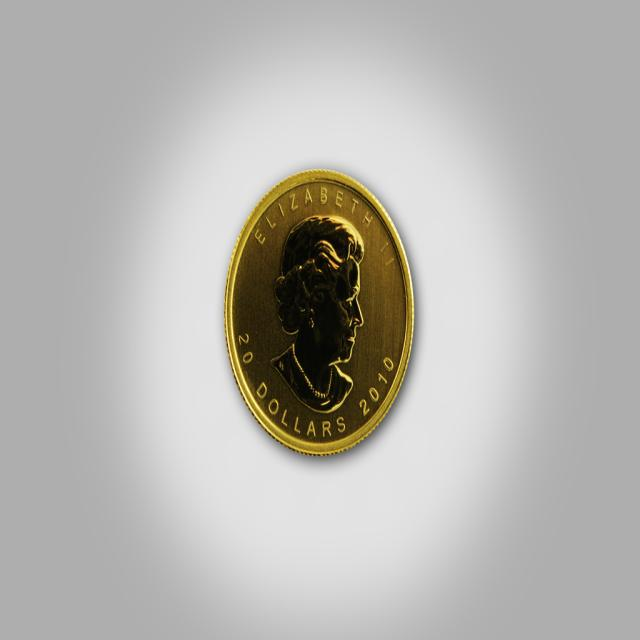Coin: (225, 168, 416, 457)
